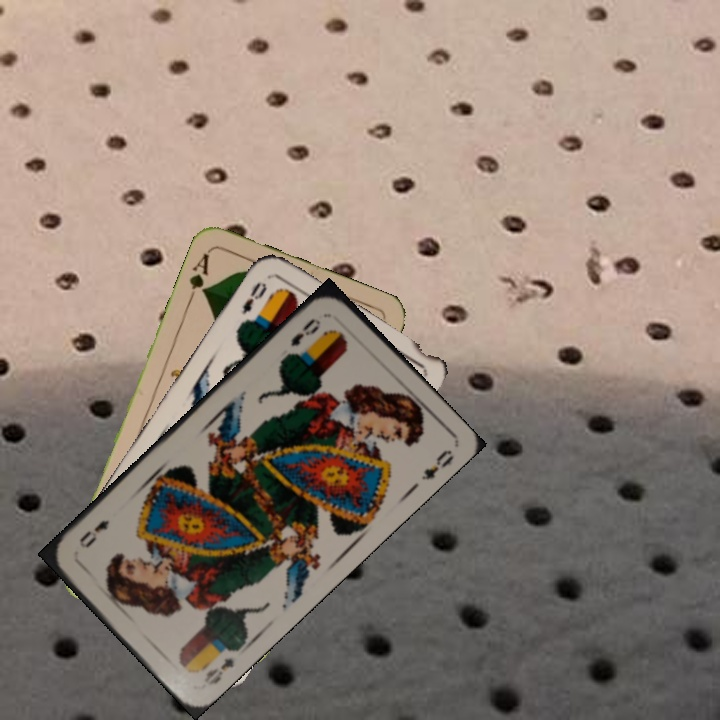EO: (286, 314, 324, 349), (238, 277, 270, 317), (200, 654, 237, 688)
GA: (184, 249, 212, 305)
